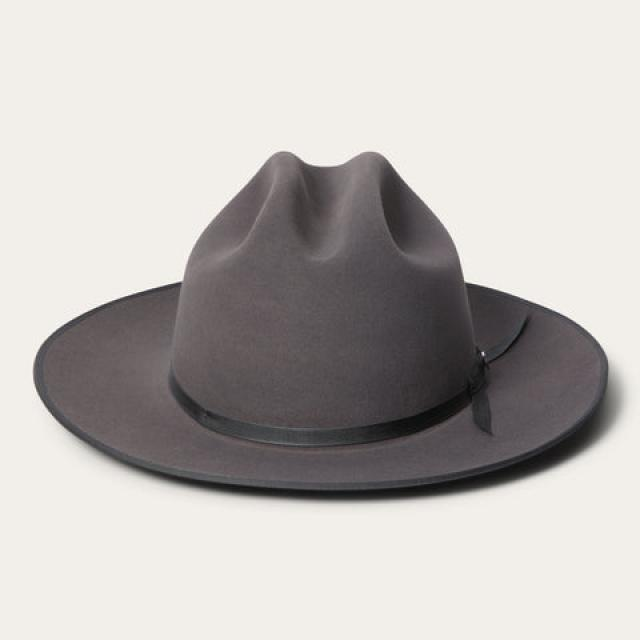hat: (33, 143, 619, 505)
